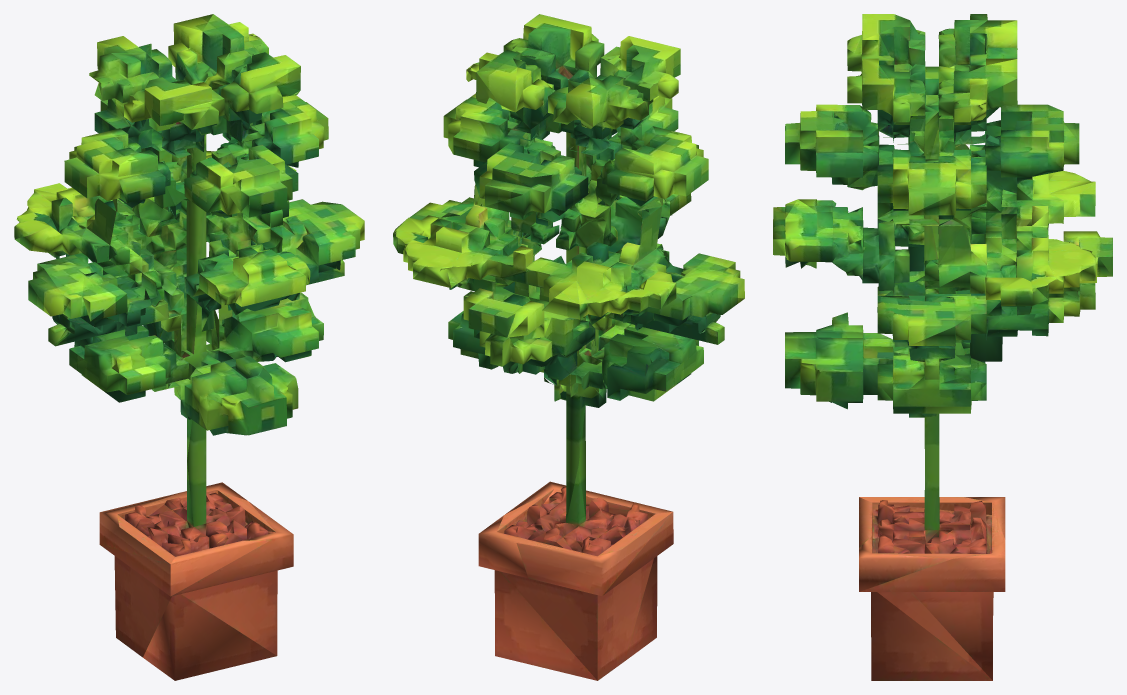
File: fiddle_plant.glb
3 renders of one model, left to right at view 1: azimuth 30°, elevation 25°; view 2: azimuth 150°, elevation 25°; view 3: azimuth 270°, elevation 25°, orthographic. The views are drawn at different scales.
Bounding box in the file's own units: 1.12 × 2 × 1.02.
1 material, 1 textured.
